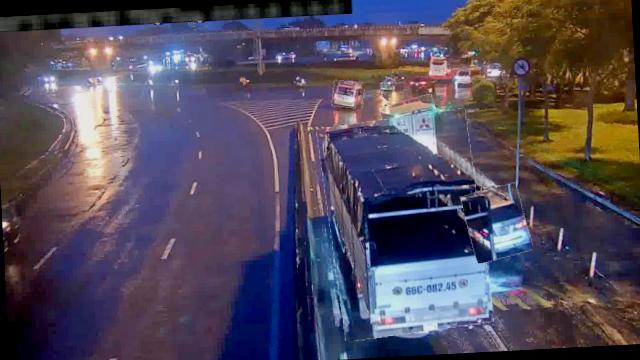Bus: (331, 79, 364, 108)
Car: (462, 185, 530, 262)
Truck: (320, 110, 490, 339), (381, 96, 446, 170)
